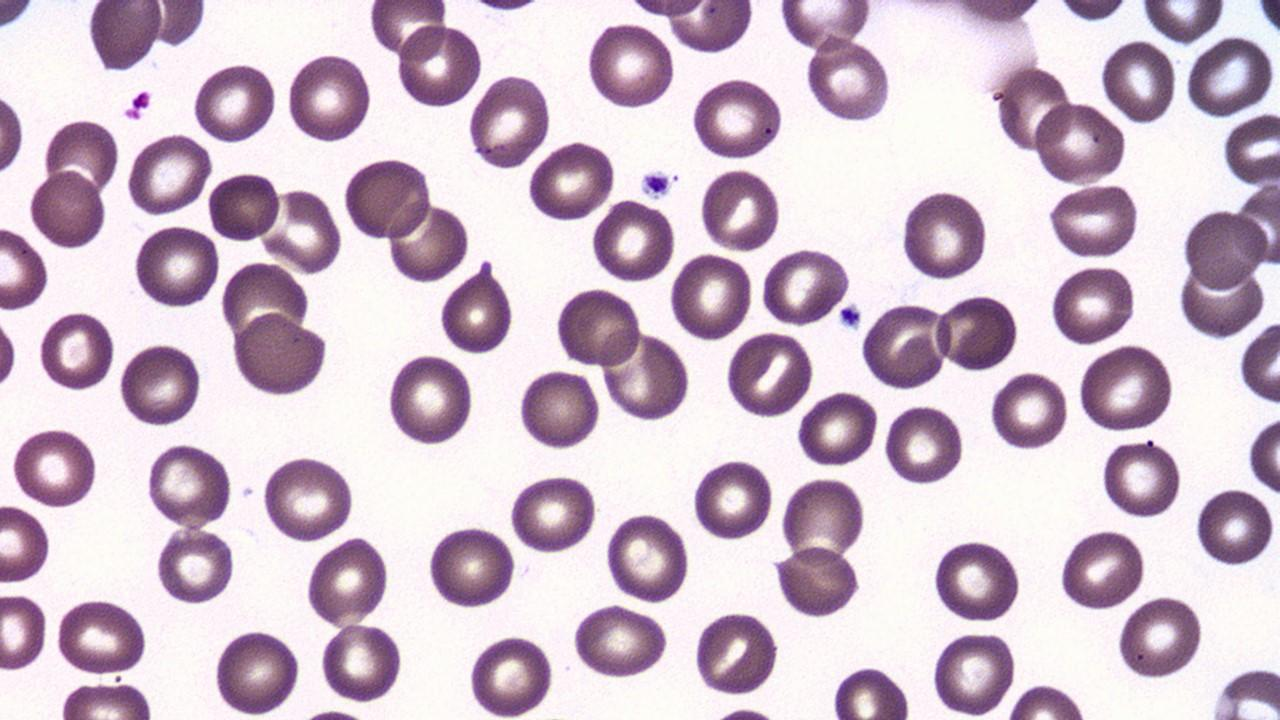Platelets: (638, 166, 676, 200), (127, 86, 154, 122), (836, 304, 862, 330), (119, 101, 144, 122)
RBC: (1075, 341, 1175, 434), (898, 186, 990, 285), (384, 350, 476, 449), (464, 71, 553, 173), (258, 453, 358, 543), (598, 328, 692, 423), (230, 308, 329, 398), (219, 258, 313, 352), (285, 48, 374, 146), (584, 18, 676, 112), (210, 624, 302, 718), (688, 75, 786, 163), (304, 531, 391, 630), (690, 607, 782, 700), (929, 534, 1024, 624), (1032, 98, 1128, 187), (424, 522, 516, 614), (1114, 592, 1206, 684), (130, 221, 222, 313), (604, 509, 692, 605), (52, 594, 150, 679), (570, 600, 671, 682), (342, 154, 433, 245), (803, 35, 894, 126), (929, 626, 1019, 718), (723, 330, 815, 420), (779, 474, 867, 568), (1183, 33, 1277, 121), (668, 250, 754, 345), (144, 440, 234, 530), (465, 630, 557, 718), (1056, 526, 1148, 614), (1044, 180, 1142, 262), (860, 299, 948, 390), (8, 423, 100, 510), (758, 244, 852, 329), (125, 129, 214, 218), (395, 20, 483, 110), (117, 338, 204, 429), (1182, 205, 1270, 294), (526, 138, 617, 224), (507, 470, 598, 556), (438, 258, 516, 358), (590, 195, 677, 284), (1176, 255, 1266, 340), (191, 59, 278, 146), (1049, 262, 1137, 348), (317, 620, 406, 705), (516, 366, 602, 453), (690, 455, 775, 543), (881, 400, 966, 488), (698, 165, 782, 254), (1099, 434, 1183, 522), (994, 62, 1074, 154), (385, 199, 470, 285), (794, 386, 880, 470), (263, 185, 342, 276), (1100, 36, 1178, 128), (988, 367, 1070, 454), (936, 290, 1020, 374), (1193, 484, 1275, 570), (554, 286, 638, 368), (154, 524, 238, 605), (41, 115, 121, 200), (29, 166, 108, 251), (38, 308, 115, 394), (773, 544, 860, 618), (85, 0, 164, 74), (207, 167, 282, 244), (367, 1, 450, 64), (663, 1, 754, 57), (830, 662, 914, 720), (776, 2, 873, 52), (1221, 109, 1280, 188), (0, 499, 54, 585), (0, 223, 50, 312), (53, 678, 160, 718), (1, 587, 49, 675), (1206, 664, 1280, 716), (1139, 1, 1227, 44), (1238, 321, 1280, 406), (148, 0, 208, 49), (944, 0, 1049, 27), (0, 84, 26, 184), (1248, 416, 1280, 492), (0, 298, 19, 407), (1055, 1, 1133, 23), (627, 0, 707, 19), (1252, 1, 1280, 37)
